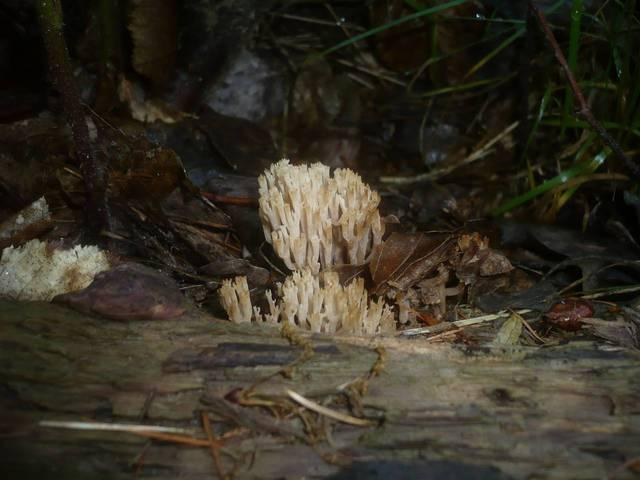Edible Mushroom: (217, 156, 396, 335), (255, 156, 385, 276)
